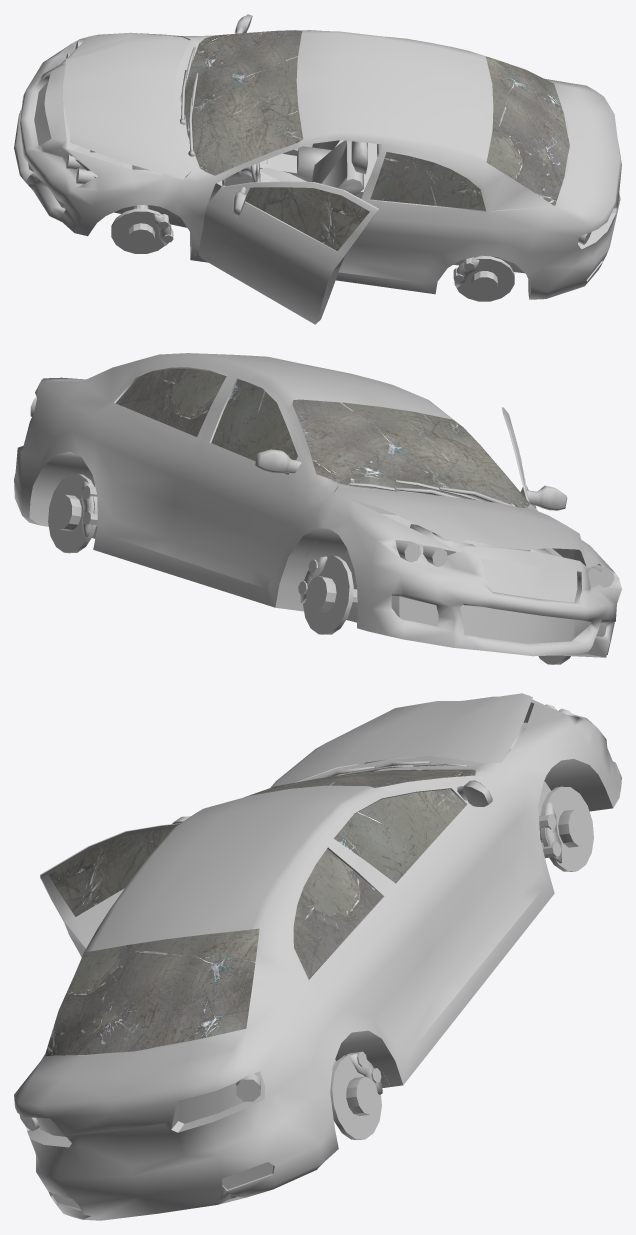
Rendered from Car_lod0.fbx.
The picture shows the model from 3 angles, top to bottom: view 1: azimuth 30°, elevation 25°; view 2: azimuth 150°, elevation 25°; view 3: azimuth 270°, elevation 25°; orthographic projection. The views are drawn at different scales.
Parts seen in each view (by area): view 1: Car_lod0; view 2: Car_lod0; view 3: Car_lod0.
Boxes of the visible parts, box(x1,y1,x2,y2) form: Car_lod0: box(14, 14, 621, 324); Car_lod0: box(14, 353, 621, 664); Car_lod0: box(14, 693, 621, 1220).
Bounding box in the file's own units: 564 × 416 × 243.
